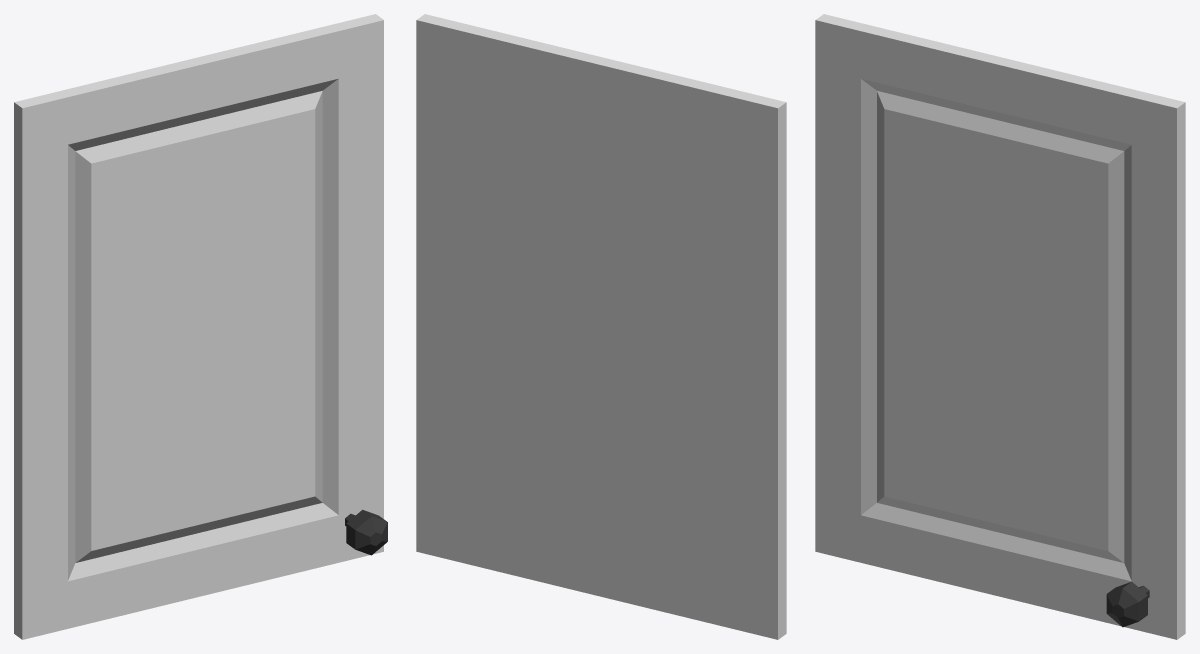
The model's file is Wardrobe7_C1_09.fbx.
The picture shows the model from 3 angles, left to right: view 1: azimuth 30°, elevation 25°; view 2: azimuth 150°, elevation 25°; view 3: azimuth 330°, elevation 25°; orthographic projection.
Parts seen in each view (by area): view 1: Wardrobe7_C1_09; view 2: Wardrobe7_C1_09; view 3: Wardrobe7_C1_09.
Boxes of the visible parts, x1,y1,x2,y2 form: Wardrobe7_C1_09: [14, 14, 387, 639]; Wardrobe7_C1_09: [416, 14, 786, 639]; Wardrobe7_C1_09: [815, 14, 1185, 639].
Size of the model in its own units: 50 by 70.23 by 8.1.
